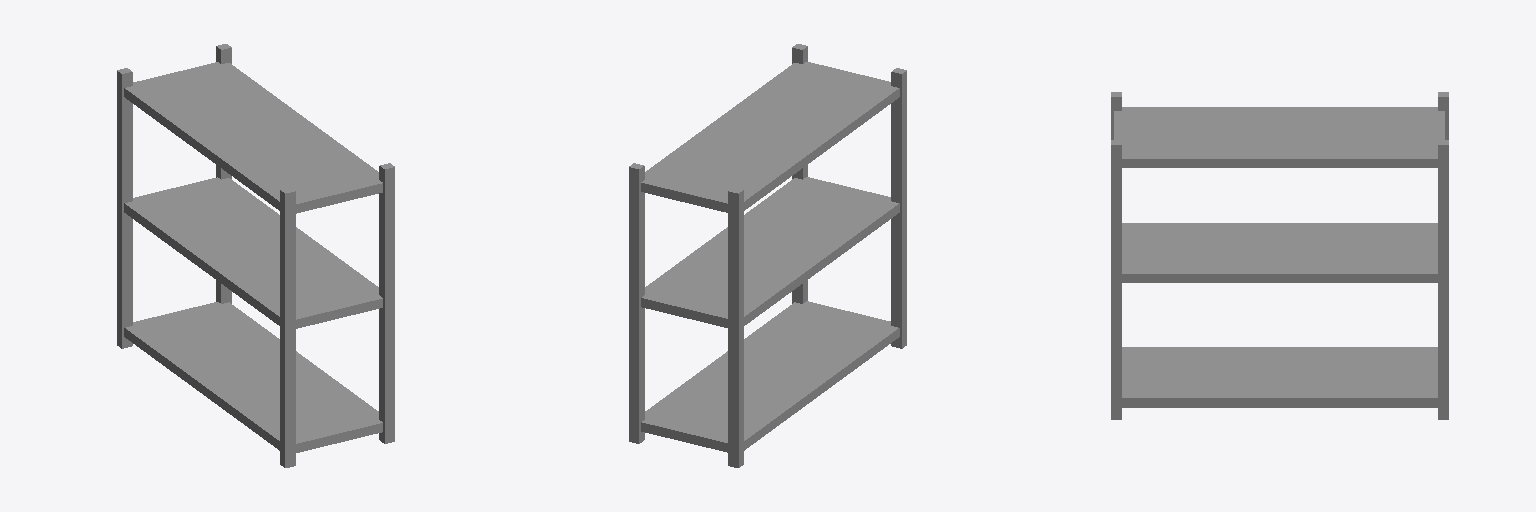
Rendered from Storage-Shelving.obj.
The picture shows the model from 3 angles: view 1: azimuth 30°, elevation 25°; view 2: azimuth 150°, elevation 25°; view 3: azimuth 270°, elevation 25°; orthographic projection.
Visible parts, largest first — view 1: Cube.153_Cube.171, Cube.157_Cube.175, Cube.154_Cube.172, Cube.155_Cube.173, Cube.156_Cube.174, Cube.159_Cube.177, Cube.158_Cube.176; view 2: Cube.153_Cube.171, Cube.157_Cube.175, Cube.154_Cube.172, Cube.159_Cube.177, Cube.158_Cube.176, Cube.155_Cube.173, Cube.156_Cube.174; view 3: Cube.153_Cube.171, Cube.157_Cube.175, Cube.154_Cube.172, Cube.158_Cube.176, Cube.156_Cube.174.
Part boxes in pixels (x1,y1,x2,y2): Cube.153_Cube.171: (124,62,382,213); Cube.157_Cube.175: (124,302,382,452); Cube.154_Cube.172: (124,177,382,328); Cube.155_Cube.173: (280,187,295,467); Cube.156_Cube.174: (379,163,394,443); Cube.159_Cube.177: (117,68,132,348); Cube.158_Cube.176: (216,44,231,303); Cube.153_Cube.171: (641,62,899,212); Cube.157_Cube.175: (641,301,899,452); Cube.154_Cube.172: (641,177,899,327); Cube.159_Cube.177: (728,187,743,467); Cube.158_Cube.176: (629,163,644,443); Cube.155_Cube.173: (891,68,906,348); Cube.156_Cube.174: (792,44,807,303); Cube.153_Cube.171: (1114,107,1444,167); Cube.157_Cube.175: (1122,347,1437,407); Cube.154_Cube.172: (1122,223,1437,282); Cube.158_Cube.176: (1438,140,1448,419); Cube.156_Cube.174: (1111,140,1121,419).
Size of the model in its own units: 1.87 by 4.47 by 4.97.